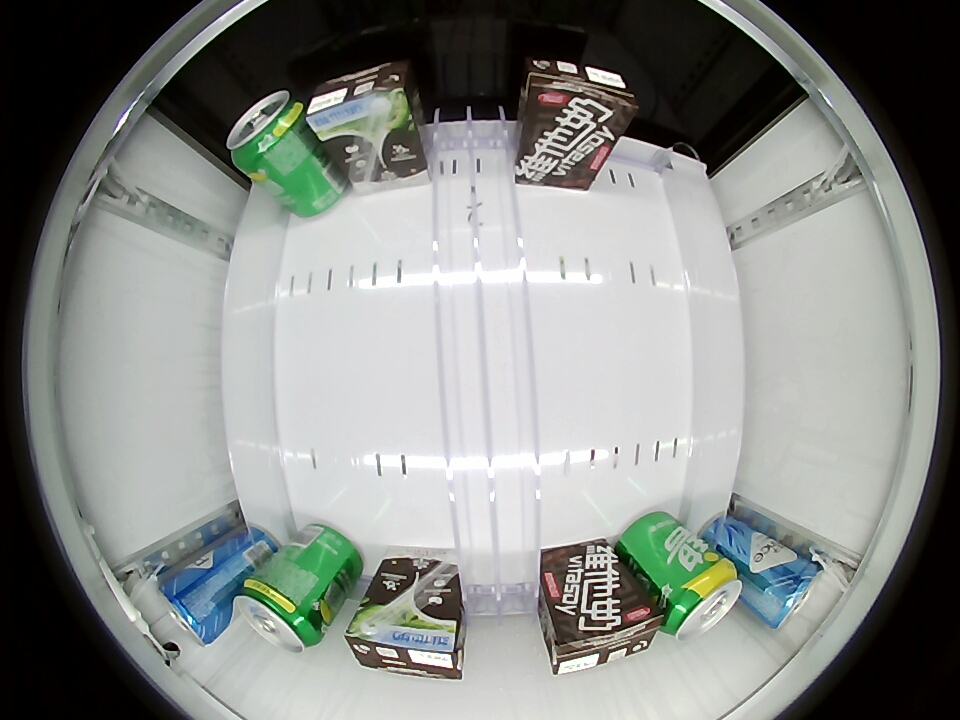qingdaowangzi-2: (159, 565, 230, 645), (755, 554, 824, 629)
weitanai2: (547, 589, 662, 675), (520, 59, 637, 142), (344, 607, 465, 679), (305, 62, 415, 141)
xuebi2: (234, 575, 327, 653), (226, 89, 310, 172), (659, 559, 743, 640)
